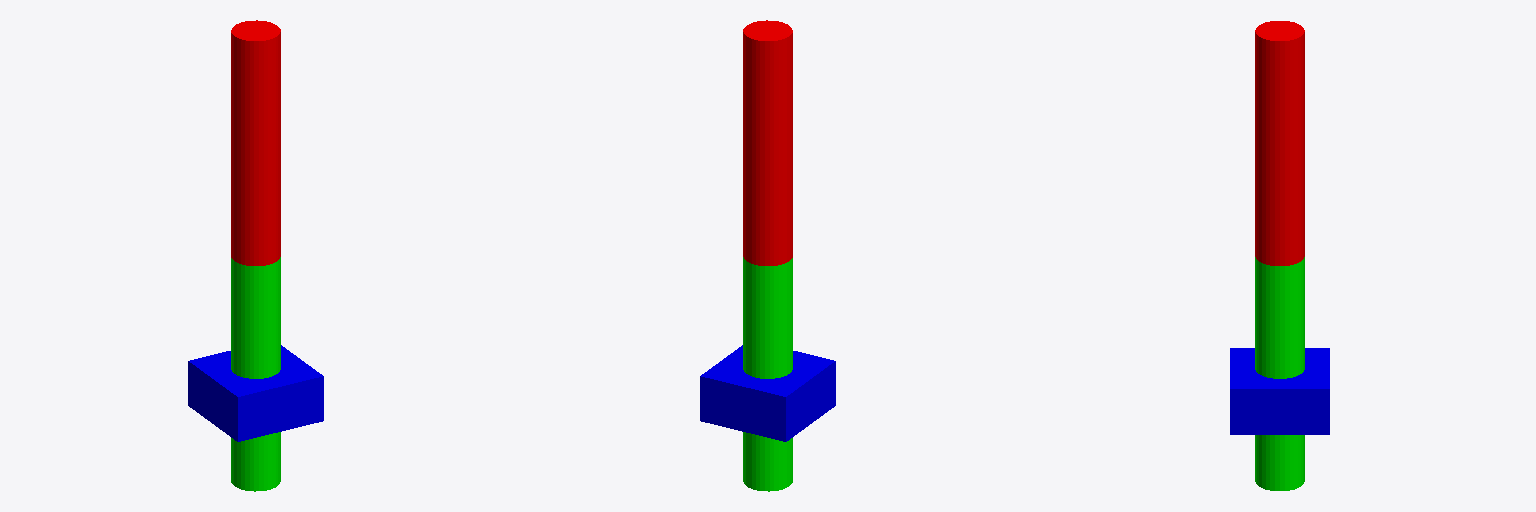
URDF robot description (basic_arm):
<?xml version="1.0"?>
<robot name="basic_arm" xmlns:xacro="http://www.ros.org/wiki/xacro">
  
  <!-- Base Link -->
  <link name="base_link">
    <visual>
      <geometry>
        <box size="0.2 0.2 0.1"/>
      </geometry>
      <material name="blue">
        <color rgba="0.0 0.0 1.0 1.0"/>
      </material>
    </visual>
    <collision>
      <geometry>
        <box size="0.2 0.2 0.1"/>
      </geometry>
    </collision>
    <inertial>
      <mass value="1.0"/>
      <origin xyz="0 0 0" rpy="0 0 0"/>
      <inertia ixx="0.01" ixy="0.0" ixz="0.0" iyy="0.01" iyz="0.0" izz="0.01"/>
    </inertial>
  </link>

  <!-- Link 1 -->
  <link name="link1">
    <visual>
      <geometry>
        <cylinder length="0.5" radius="0.05"/>
      </geometry>
      <material name="green">
        <color rgba="0.0 1.0 0.0 1.0"/>
      </material>
    </visual>
    <collision>
      <geometry>
        <cylinder length="0.5" radius="0.05"/>
      </geometry>
    </collision>
    <inertial>
      <mass value="0.5"/>
      <origin xyz="0 0 0.25" rpy="0 0 0"/>
      <inertia ixx="0.002" ixy="0.0" ixz="0.0" iyy="0.002" iyz="0.0" izz="0.001"/>
    </inertial>
  </link>

  <!-- Link 2 -->
  <link name="link2">
    <visual>
      <geometry>
        <cylinder length="0.5" radius="0.05"/>
      </geometry>
      <material name="red">
        <color rgba="1.0 0.0 0.0 1.0"/>
      </material>
    </visual>
    <collision>
      <geometry>
        <cylinder length="0.5" radius="0.05"/>
      </geometry>
    </collision>
    <inertial>
      <mass value="0.5"/>
      <origin xyz="0 0 0.25" rpy="0 0 0"/>
      <inertia ixx="0.002" ixy="0.0" ixz="0.0" iyy="0.002" iyz="0.0" izz="0.001"/>
    </inertial>
  </link>

  <!-- Joint 1 -->
  <joint name="joint1" type="revolute">
    <parent link="base_link"/>
    <child link="link1"/>
    <origin xyz="0 0 0.05" rpy="0 0 0"/>
    <axis xyz="0 0 1"/>
    <limit lower="-1.5708" upper="1.5708" effort="10" velocity="1.0"/>
  </joint>

  <!-- Joint 2 -->
  <joint name="joint2" type="revolute">
    <parent link="link1"/>
    <child link="link2"/>
    <origin xyz="0 0 0.5" rpy="0 0 0"/>
    <axis xyz="0 0 1"/>
    <limit lower="-1.5708" upper="1.5708" effort="10" velocity="1.0"/>
  </joint>

</robot>

--- Render facts (derived) ---
3 views of the same robot in one strip: view 1: azimuth 30°, elevation 25°; view 2: azimuth 150°, elevation 25°; view 3: azimuth 270°, elevation 25° (orthographic).
Model basic_arm with 3 links and 2 joints (2 revolute), rooted at base_link, posed all joints at 0.
Links seen in each view (by area): view 1: link2, base_link, link1; view 2: link2, base_link, link1; view 3: link2, link1, base_link.
Link boxes in pixels (box(x1,y1,x2,y2)): link2: box(231, 20, 280, 265); base_link: box(188, 345, 323, 441); link1: box(231, 257, 280, 491); link2: box(743, 20, 792, 265); base_link: box(700, 345, 835, 441); link1: box(743, 257, 792, 491); link2: box(1255, 21, 1304, 265); link1: box(1255, 257, 1304, 490); base_link: box(1230, 348, 1329, 434).
Bounding box of the posed robot: 0.2 × 0.2 × 1 m (x, y, z).
Geometry: primitives only (box / cylinder / sphere), no mesh files.
